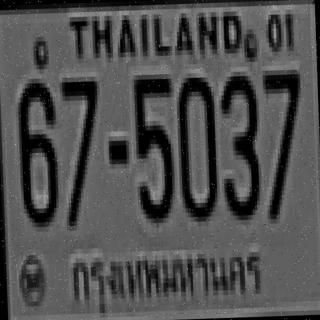N00: (176, 72, 215, 217)
N03: (218, 71, 260, 216)
N05: (131, 69, 173, 219)
N06: (14, 78, 56, 223)
N07: (261, 65, 303, 214), (60, 74, 100, 224)
P04: (64, 239, 268, 314)
